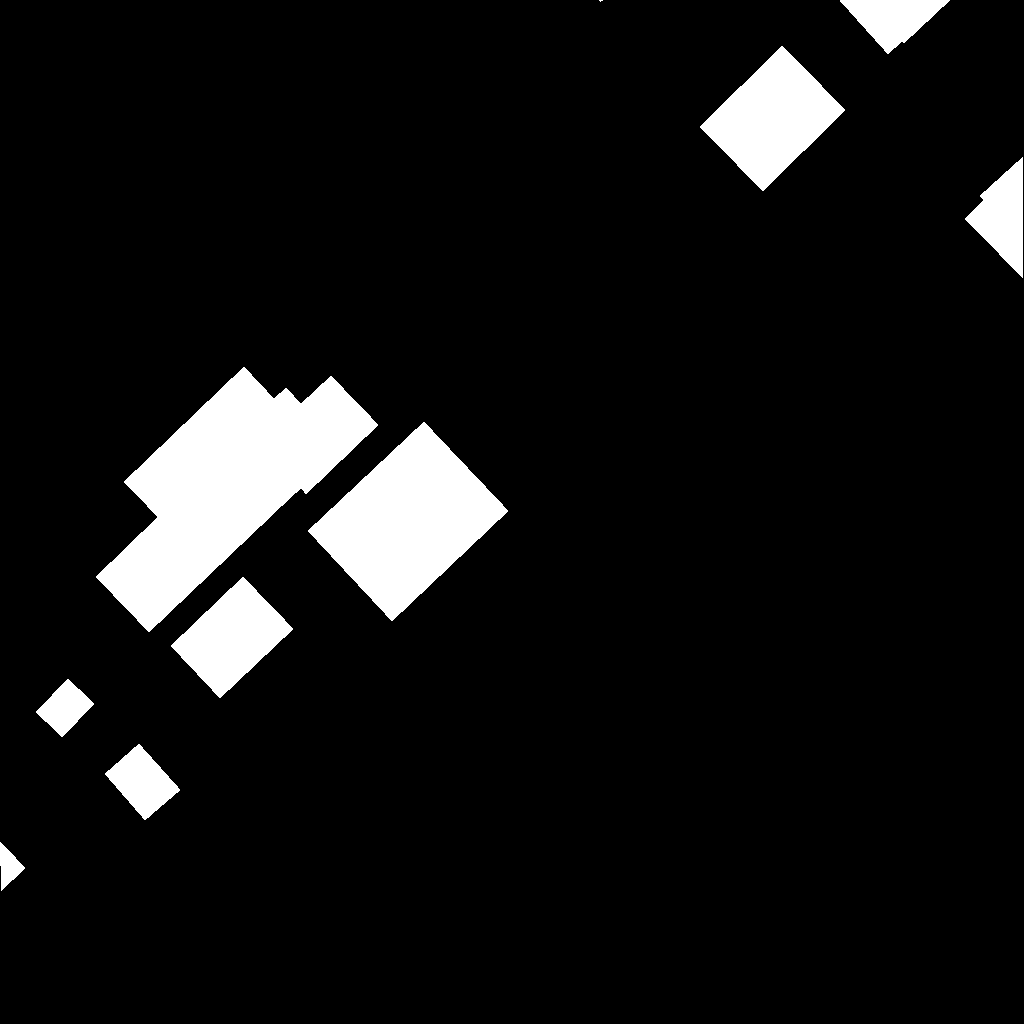building: (96, 367, 379, 633), (308, 422, 509, 622), (700, 46, 846, 192), (171, 577, 294, 699), (965, 157, 1024, 279), (839, 0, 951, 55), (105, 744, 181, 821), (36, 679, 95, 738), (0, 842, 26, 892), (599, 0, 604, 3)
